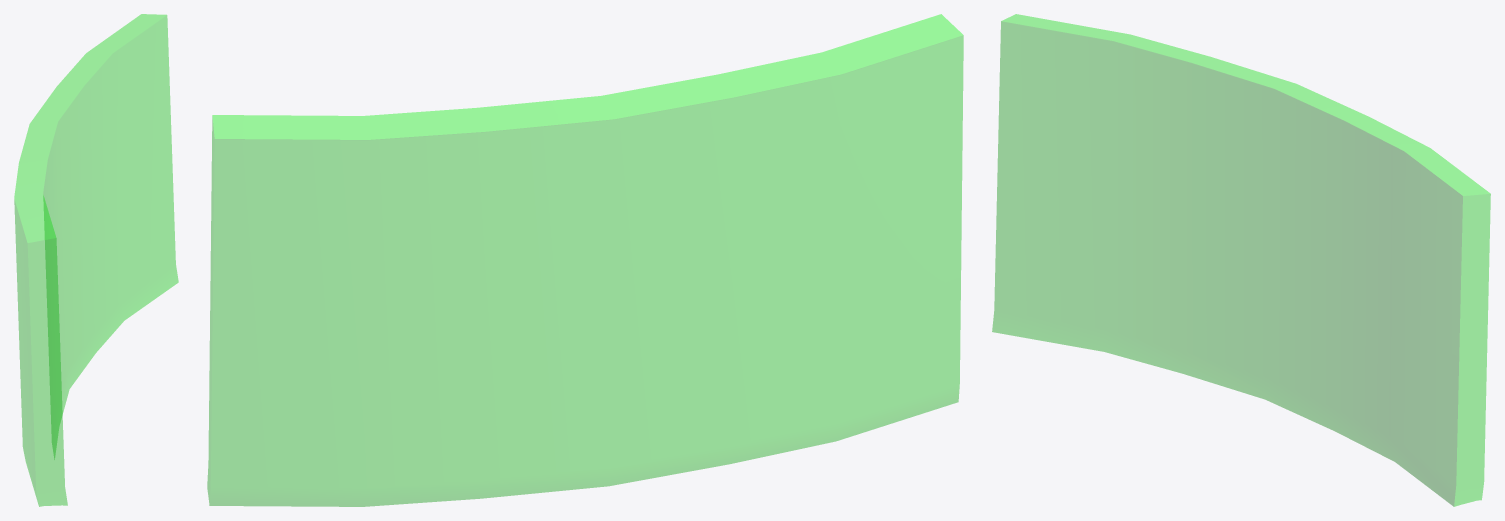
The model's file is display_00v1.gltf.
3 views of the same model, side by side, from view 1: azimuth 30°, elevation 25°; view 2: azimuth 150°, elevation 25°; view 3: azimuth 270°, elevation 25° (orthographic). The views are drawn at different scales.
Visible parts, largest first — view 1: Model; view 2: Model; view 3: Model.
Part boxes in pixels (<box>): Model: <box>14,14,178,506</box>; Model: <box>207,14,963,506</box>; Model: <box>992,14,1490,506</box>.
Bounding box in the file's own units: 13.82 × 10.34 × 15.19.
